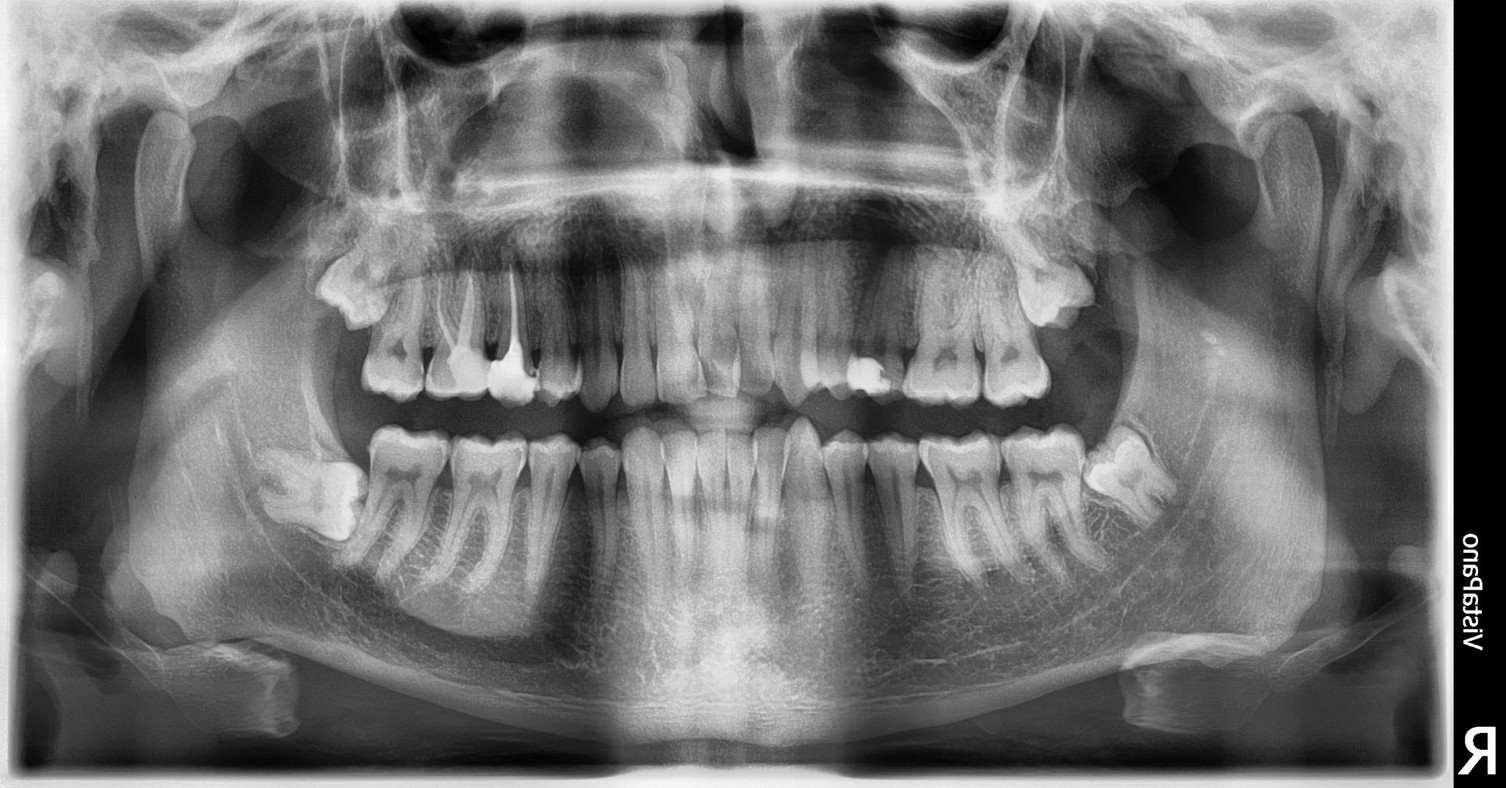Premolars: (535, 207, 1506, 629), (603, 228, 1506, 640), (495, 101, 1471, 398), (470, 105, 1392, 381), (560, 137, 1506, 355), (276, 211, 764, 631), (231, 210, 631, 627), (191, 226, 518, 676), (215, 176, 650, 442), (196, 97, 534, 339)
